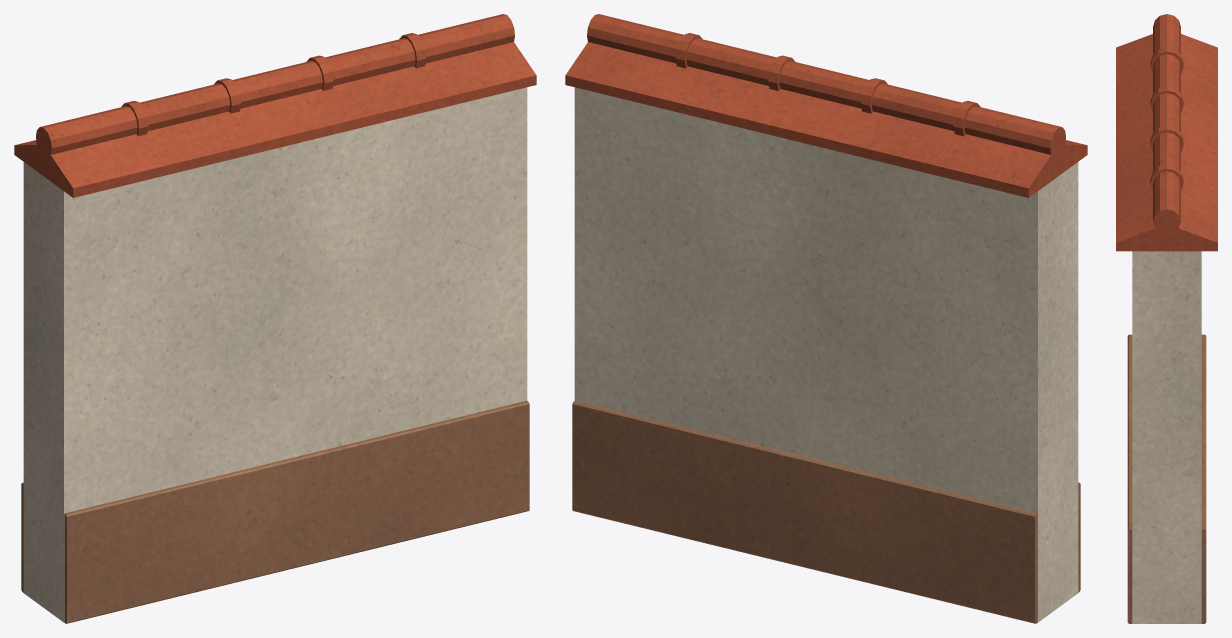
File: g_wall.glb
3 views of the same model, side by side, from view 1: azimuth 30°, elevation 25°; view 2: azimuth 150°, elevation 25°; view 3: azimuth 270°, elevation 25° (orthographic). The views are drawn at different scales.
Visible parts, largest first — view 1: g_wall_render, g_wall_plinth, g_wall_tile_clay; view 2: g_wall_render, g_wall_plinth, g_wall_tile_clay; view 3: g_wall_render, g_wall_tile_clay, g_wall_plinth.
Part boxes in pixels (<box>): g_wall_render: <box>23,87,527,622</box>; g_wall_plinth: <box>21,400,529,623</box>; g_wall_tile_clay: <box>14,14,536,197</box>; g_wall_render: <box>574,87,1078,622</box>; g_wall_plinth: <box>572,400,1080,623</box>; g_wall_tile_clay: <box>565,14,1087,197</box>; g_wall_render: <box>1132,251,1201,623</box>; g_wall_tile_clay: <box>1116,14,1217,251</box>; g_wall_plinth: <box>1127,334,1206,623</box>.
Size of the model in its own units: 2 by 1.99 by 0.44.
Materials: 3 (3 with a texture image).
